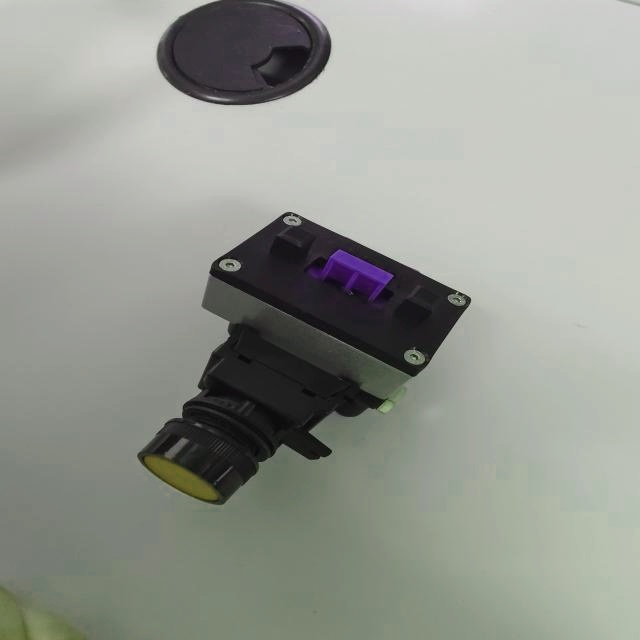push button: (136, 210, 472, 506)
